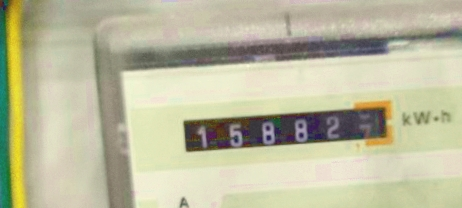1: (194, 123, 210, 149)
2: (324, 114, 340, 139)
5: (226, 120, 244, 147)
7: (357, 120, 373, 140)
8: (259, 120, 277, 146), (292, 117, 309, 142)
screen: (167, 91, 403, 168)
